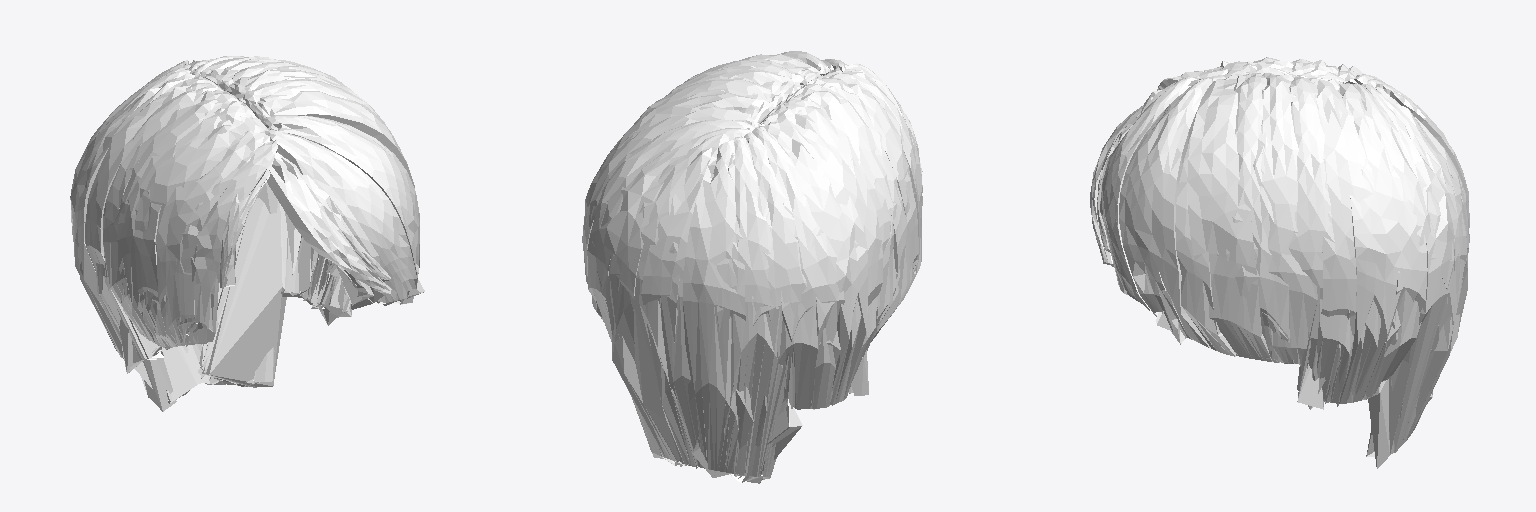
File: T4fit.obj
3 views of the same model, side by side, from view 1: azimuth 30°, elevation 25°; view 2: azimuth 150°, elevation 25°; view 3: azimuth 270°, elevation 25° (orthographic).
Parts seen in each view (by area): view 1: Item_0_0; view 2: Item_0_0; view 3: Item_0_0.
Part boxes in pixels (x1,y1,x2,y2): Item_0_0: (70,56,424,411); Item_0_0: (582,51,922,483); Item_0_0: (1090,57,1469,468).
Size of the model in its own units: 0.0759 by 0.0967 by 0.0915.